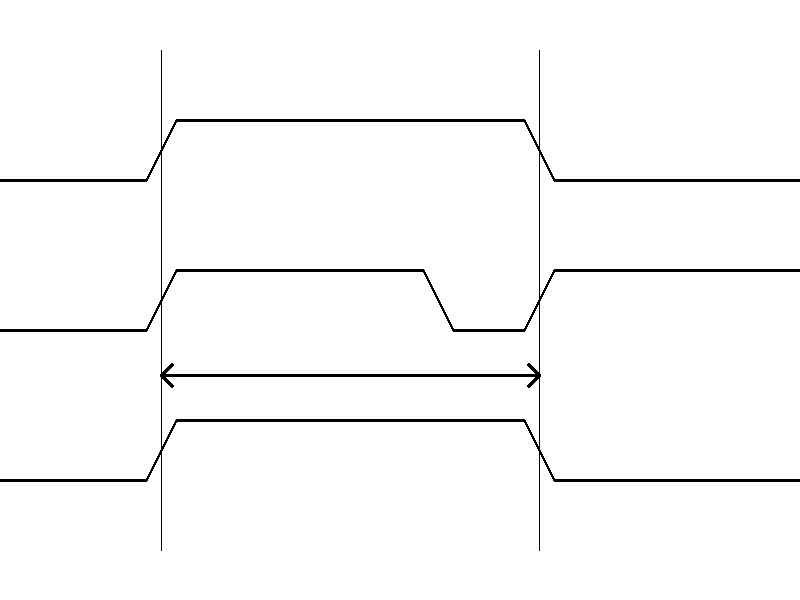double_arrow: (161, 360, 539, 390)
